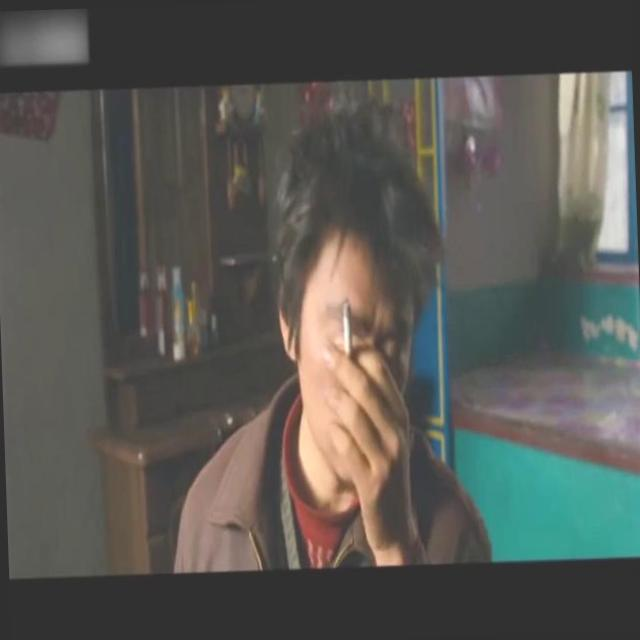smoke: (336, 290, 356, 360)
